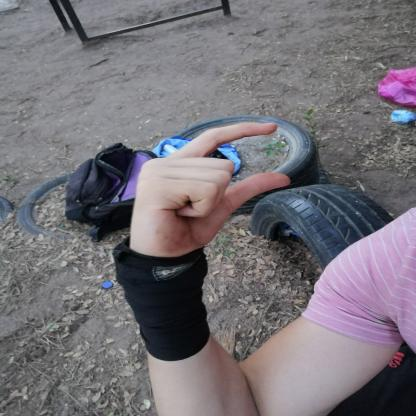DELL: (108, 112, 304, 269)
